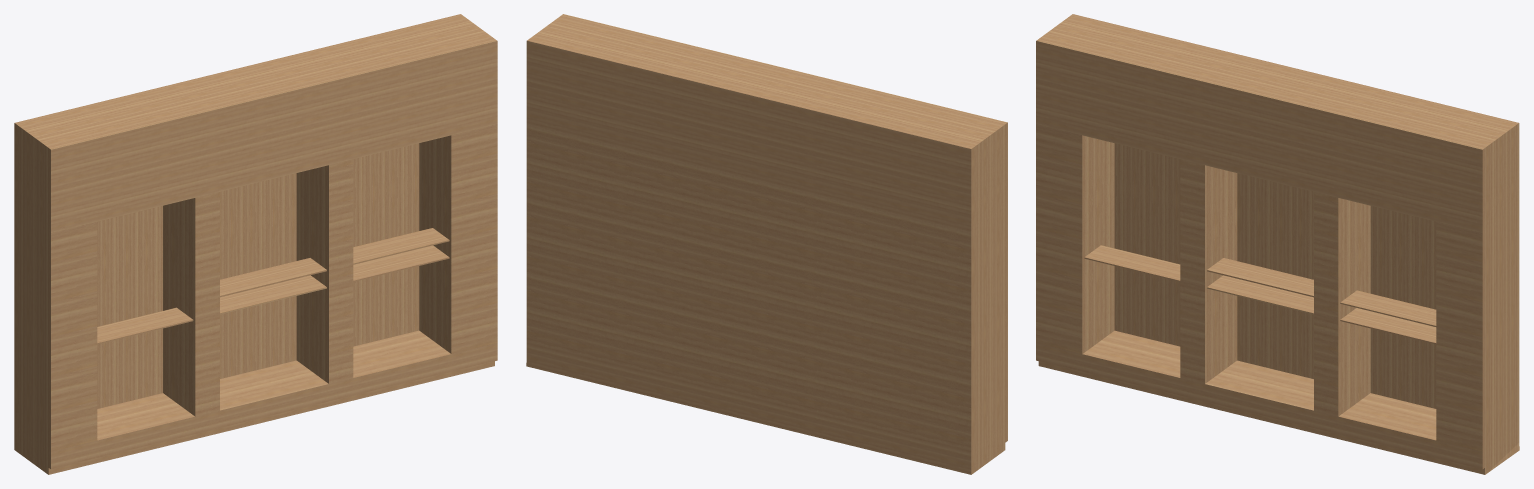
File: Shelf.fbx
The picture shows the model from 3 angles, left to right: view 1: azimuth 30°, elevation 25°; view 2: azimuth 150°, elevation 25°; view 3: azimuth 330°, elevation 25°; orthographic projection.
Parts seen in each view (by area): view 1: pCube; view 2: pCube; view 3: pCube.
Boxes of the visible parts, box(x1,y1,x2,y2) form: pCube: box(14, 14, 497, 474); pCube: box(526, 14, 1007, 474); pCube: box(1036, 14, 1519, 474).
Bounding box in the file's own units: 561 × 392 × 79.67.
